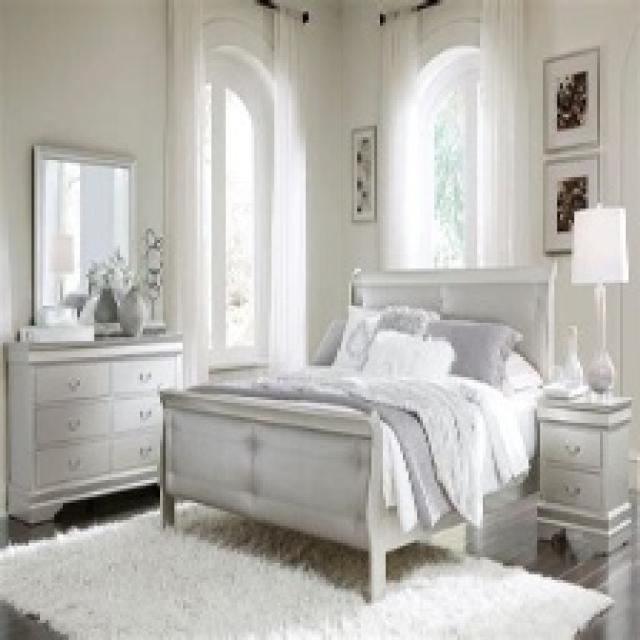Bed: (157, 260, 557, 603)
